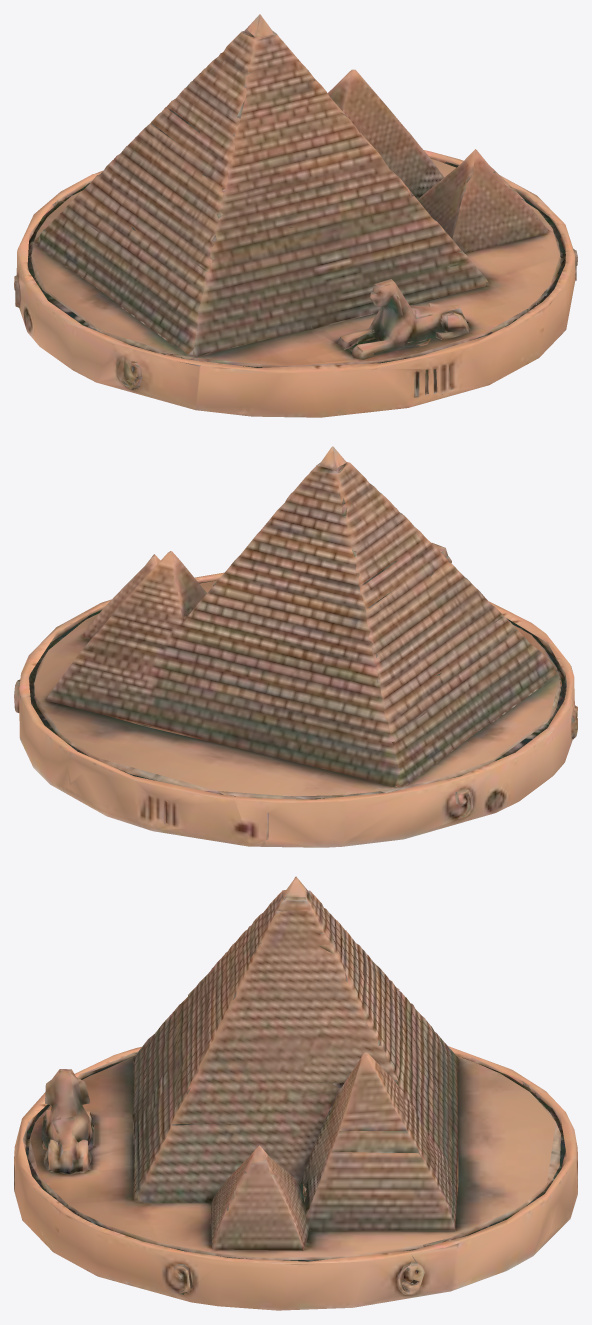
File: pyramid_giza_celestial.glb
The picture shows the model from 3 angles, top to bottom: view 1: azimuth 30°, elevation 25°; view 2: azimuth 150°, elevation 25°; view 3: azimuth 270°, elevation 25°; orthographic projection.
Visible parts, largest first — view 1: Mesh_0; view 2: Mesh_0; view 3: Mesh_0.
Boxes of the visible parts, x1=… form: Mesh_0: x1=14, y1=14, x2=577, y2=417; Mesh_0: x1=14, y1=446, x2=577, y2=847; Mesh_0: x1=14, y1=876, x2=577, y2=1310.
Bounding box in the file's own units: 1.9 × 1.12 × 1.91.
1 material, 1 textured.
